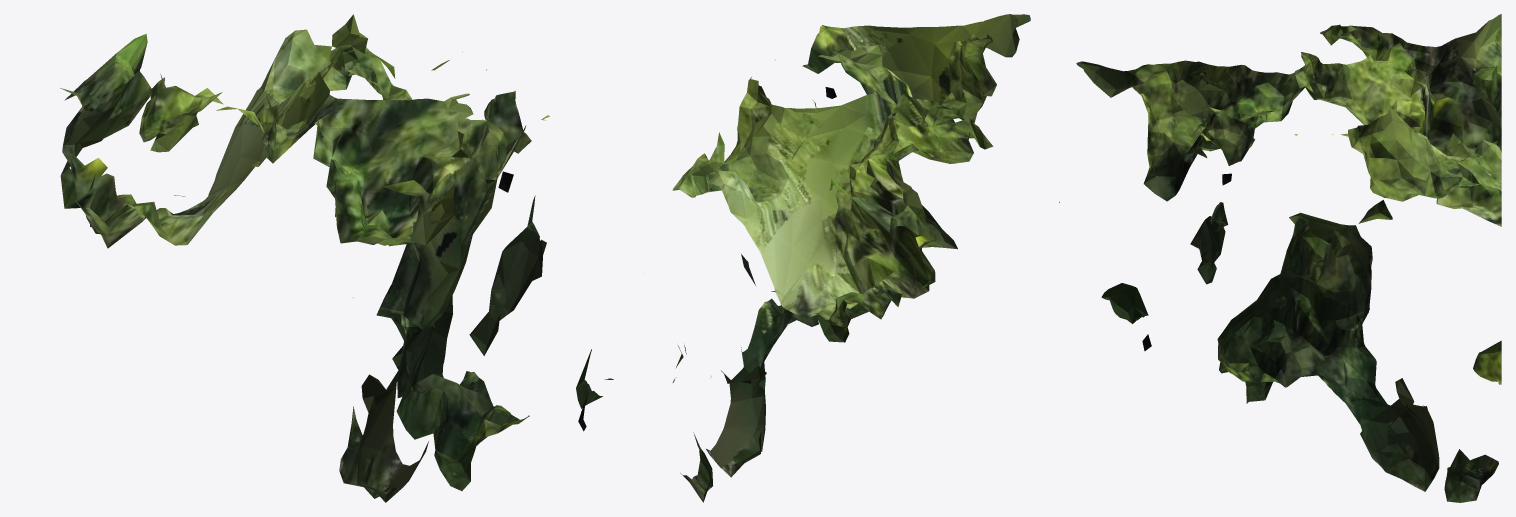
3 views of the same model, side by side, from view 1: azimuth 30°, elevation 25°; view 2: azimuth 150°, elevation 25°; view 3: azimuth 270°, elevation 25° (orthographic). The views are drawn at different scales.
Size of the model in its own units: 17.45 by 24.44 by 26.11.
3 materials, 3 textured.
